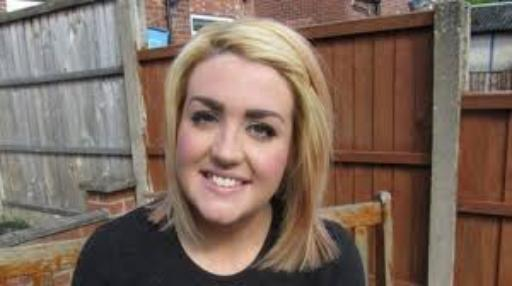left_eye: (246, 124, 281, 140)
left_lip_corner: (244, 178, 259, 189)
right_eye: (192, 111, 219, 125)
right_lip_corner: (196, 167, 208, 177)
